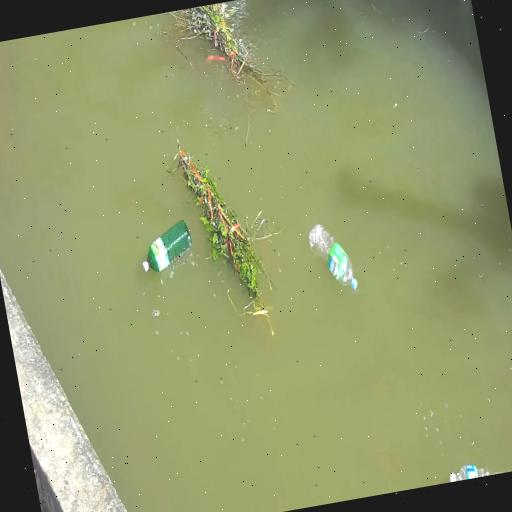plastic: (302, 214, 362, 294), (135, 212, 199, 280), (442, 456, 492, 482)
twig: (172, 134, 280, 318), (171, 0, 276, 104), (0, 42, 17, 173)
